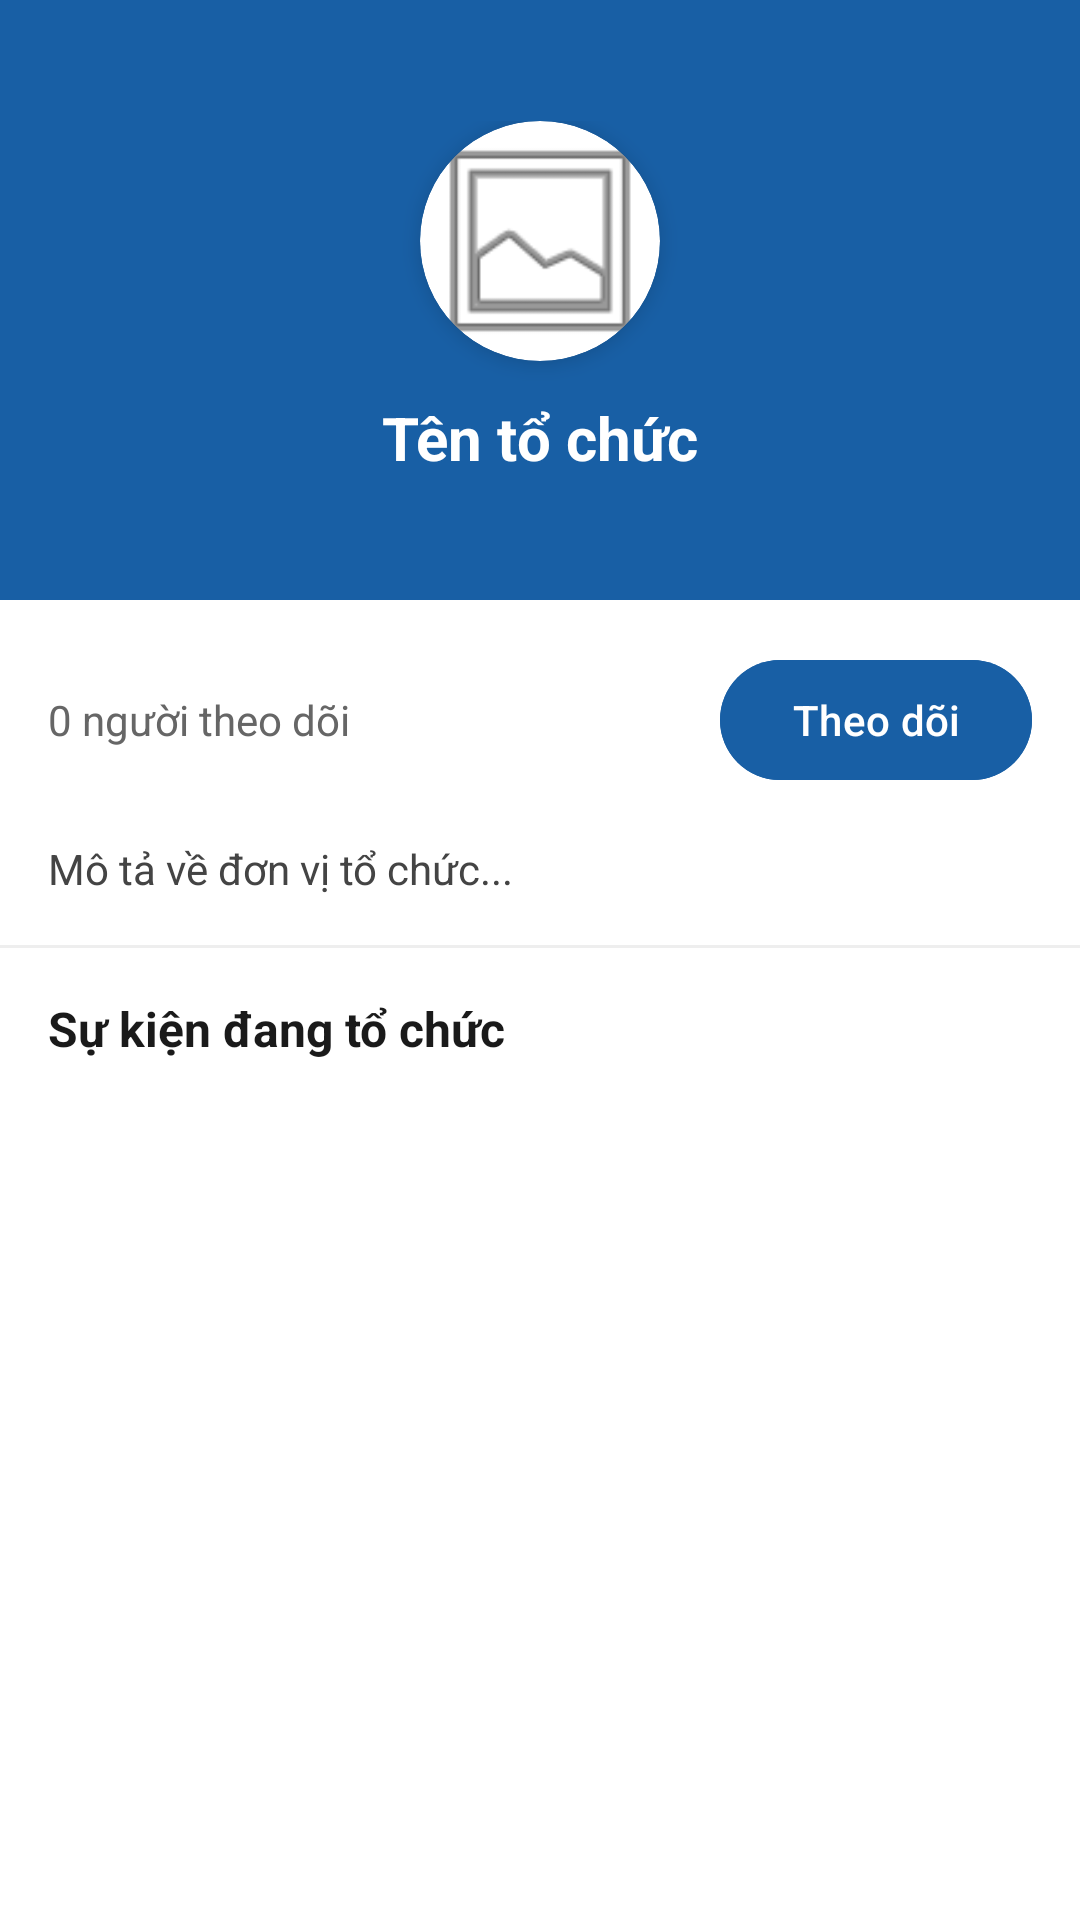

Named icons in this screenshot (1080*1920) and their bounding boxes, (x1, y1, x2, y2):
gallery: (420, 121, 660, 361)
